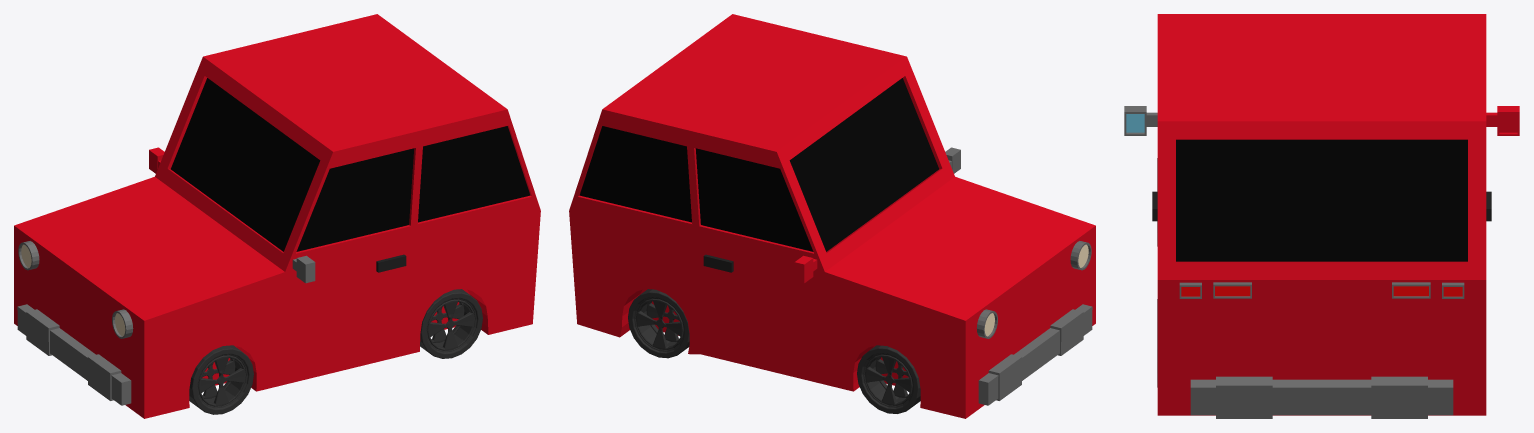
The model's file is Auto.fbx.
3 views of the same model, side by side, from view 1: azimuth 30°, elevation 25°; view 2: azimuth 150°, elevation 25°; view 3: azimuth 270°, elevation 25° (orthographic). The views are drawn at different scales.
Parts seen in each view (by area): view 1: Gerüst, Reifen03, Reifen02; view 2: Gerüst, Reifen01, Reifen04; view 3: Gerüst.
Boxes of the visible parts, left/top/right/bottom form: Gerüst: left=14, top=14, right=540, bottom=418; Reifen03: left=189, top=345, right=253, bottom=414; Reifen02: left=420, top=289, right=482, bottom=358; Gerüst: left=569, top=14, right=1095, bottom=418; Reifen01: left=857, top=345, right=920, bottom=413; Reifen04: left=628, top=289, right=689, bottom=358; Gerüst: left=1124, top=14, right=1519, bottom=418.
Bounding box in the file's own units: 213 × 116 × 140.
